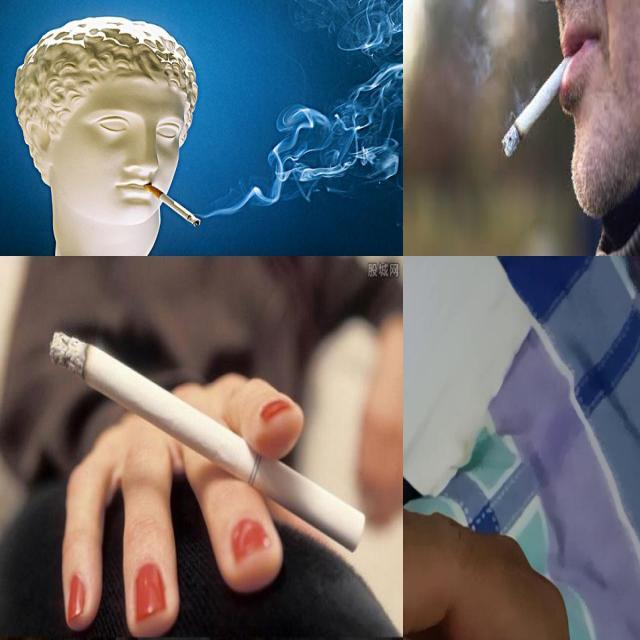smoking: (50, 332, 366, 552), (502, 48, 581, 159), (142, 184, 202, 228)
